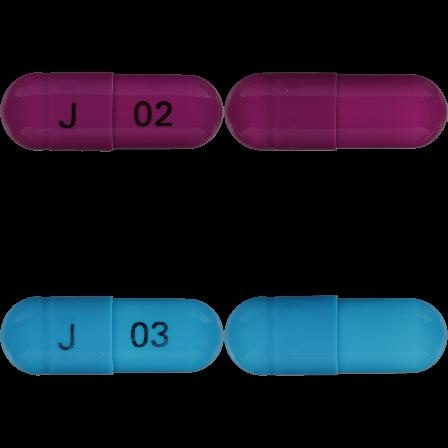65862-586: (0, 0, 224, 224)
